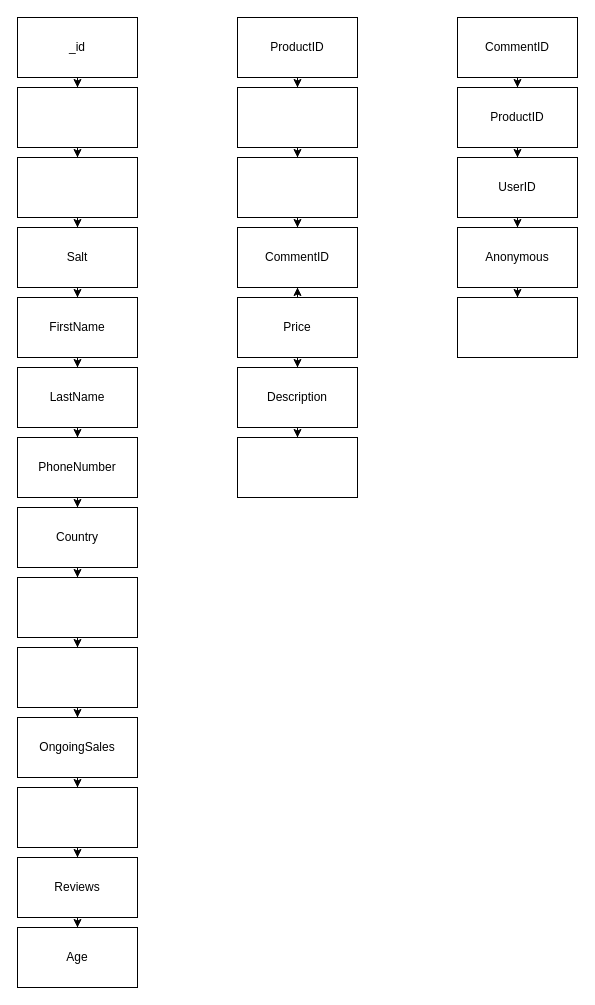
This 595x1005 diagram has some shape labels left out. Here are the shapes that lost their labels. From the top down, the box of each, then its label:
(16, 86, 138, 148): Username
(236, 86, 358, 148): PictureID
(16, 156, 138, 218): Password
(236, 156, 358, 218): SellerID
(456, 296, 578, 358): Comments
(236, 436, 358, 498): Title
(16, 576, 138, 638): City
(16, 646, 138, 708): Address
(16, 786, 138, 848): SalesHistory
